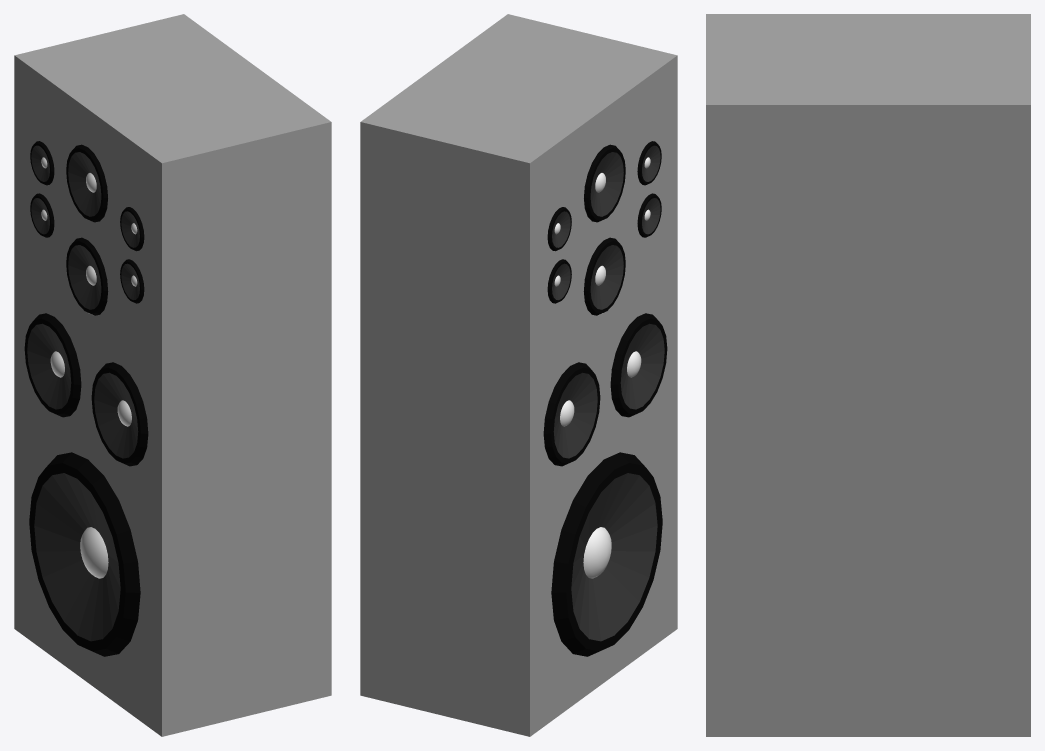
Rendered from Speaker.fbx.
The picture shows the model from 3 angles, left to right: view 1: azimuth 30°, elevation 25°; view 2: azimuth 150°, elevation 25°; view 3: azimuth 270°, elevation 25°; orthographic projection. The views are drawn at different scales.
Visible parts, largest first — view 1: pCube12, pCone10, pCone11, pCone3, pCone4, pCone12, pCone8, pCone13, pCone9, pCone6; view 2: pCube12, pCone10, pCone3, pCone11, pCone4, pCone12, pCone6, pCone9, pCone13, pCone8; view 3: pCube12.
Boxes of the visible parts, x1,y1,x2,y2 form: pCube12: [14, 14, 331, 736]; pCone10: [29, 452, 140, 656]; pCone11: [24, 313, 81, 417]; pCone3: [91, 362, 148, 466]; pCone4: [66, 237, 108, 315]; pCone12: [66, 144, 107, 222]; pCone8: [30, 141, 54, 185]; pCone13: [30, 193, 54, 237]; pCone9: [120, 259, 144, 303]; pCone6: [120, 207, 144, 251]; pCube12: [360, 14, 677, 736]; pCone10: [551, 452, 662, 656]; pCone3: [610, 313, 667, 417]; pCone11: [543, 362, 600, 466]; pCone4: [583, 237, 625, 315]; pCone12: [584, 144, 625, 222]; pCone6: [637, 141, 661, 185]; pCone9: [637, 193, 661, 237]; pCone13: [547, 259, 571, 303]; pCone8: [547, 207, 571, 251]; pCube12: [706, 14, 1030, 736].
Size of the model in its own units: 2.49 by 7.56 by 3.52.
